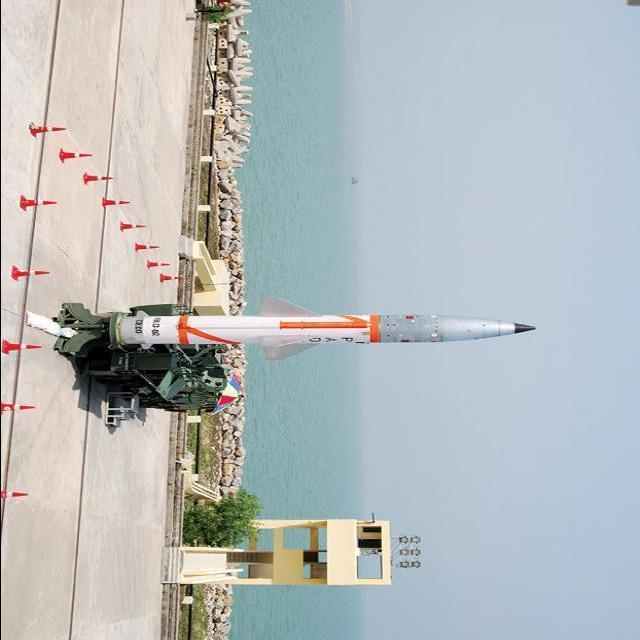missile: (111, 312, 543, 347)
